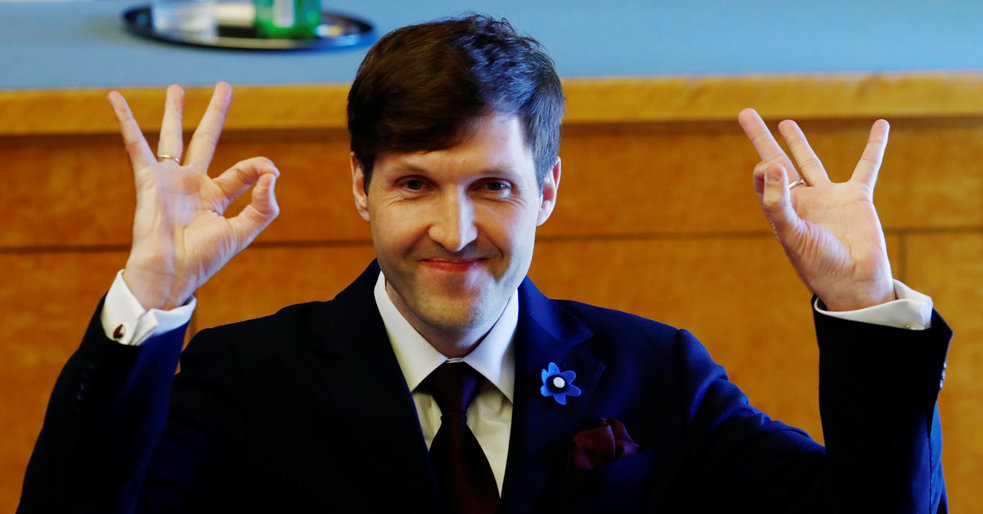oksign: (112, 82, 284, 276)
